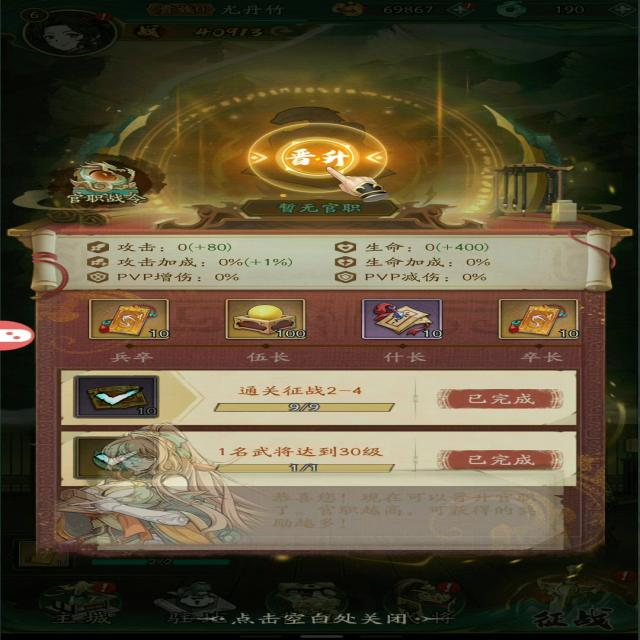hint-guide: (55, 440, 585, 560), (274, 134, 356, 180)
operation-RankBattletoken: (46, 148, 152, 208)
operation-confirm-off: (436, 383, 565, 416), (434, 440, 574, 470)
operation-promotion: (239, 140, 403, 173)
